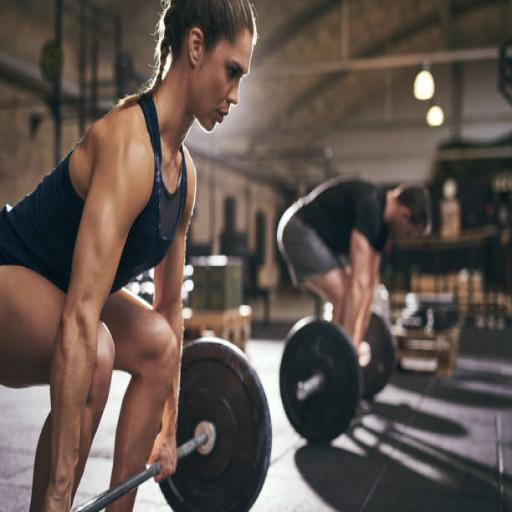Person: (0, 82, 273, 421), (230, 184, 453, 373)
no_gloves: (153, 357, 193, 395)
no_goggle: (194, 113, 256, 152)
no_helmet: (145, 83, 266, 148)
none: (16, 160, 207, 291), (283, 190, 389, 261)
